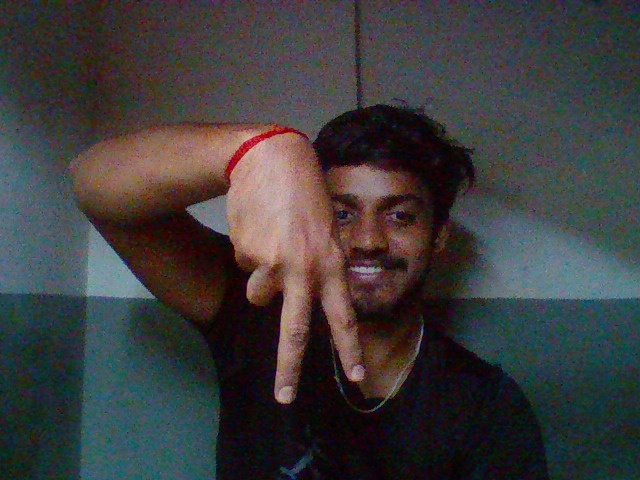N: (198, 126, 382, 410)
